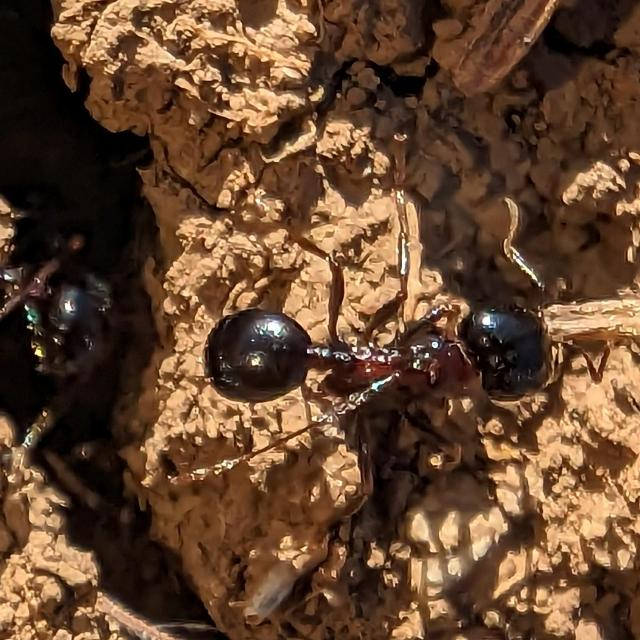Messor: (171, 264, 573, 436), (0, 217, 136, 453)
